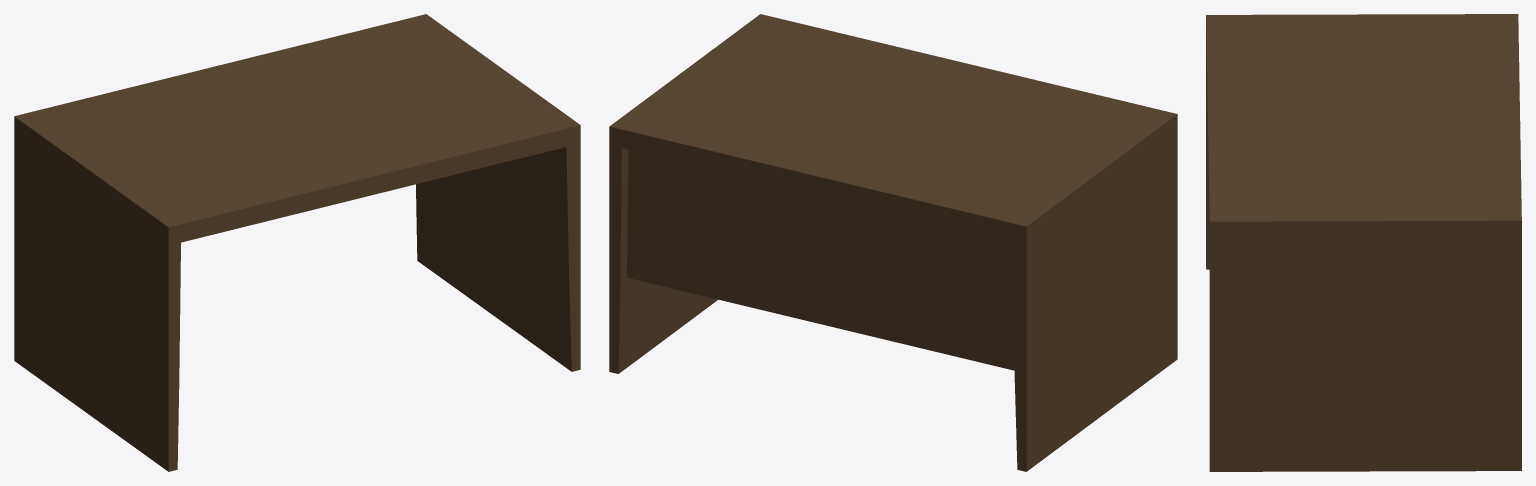
File: desk2.fbx
3 renders of one model, left to right at view 1: azimuth 30°, elevation 25°; view 2: azimuth 150°, elevation 25°; view 3: azimuth 270°, elevation 25°, orthographic. The views are drawn at different scales.
Parts seen in each view (by area): view 1: Desk; view 2: Desk; view 3: Desk.
Part boxes in pixels (<box>): Desk: <box>14,14,580,471</box>; Desk: <box>609,14,1177,471</box>; Desk: <box>1206,14,1521,471</box>.
Size of the model in its own units: 180 by 101 by 116.
